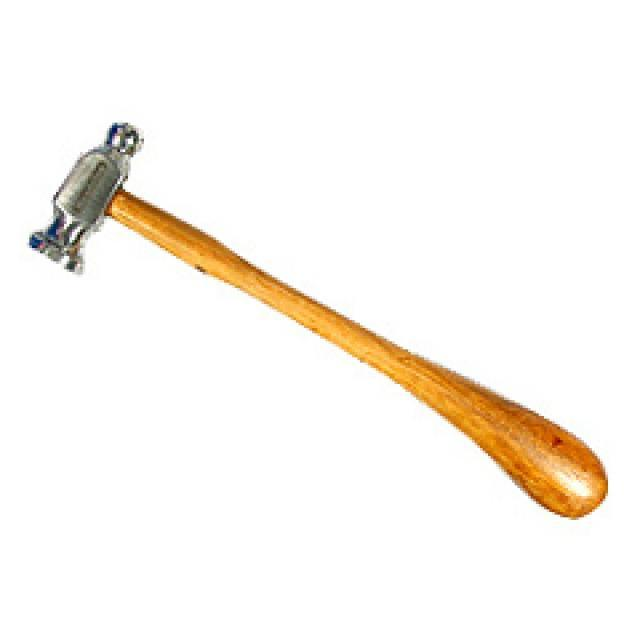hammer: (22, 107, 616, 542)
